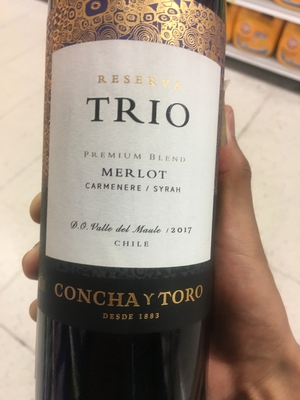trio merlot: (33, 8, 227, 393)
